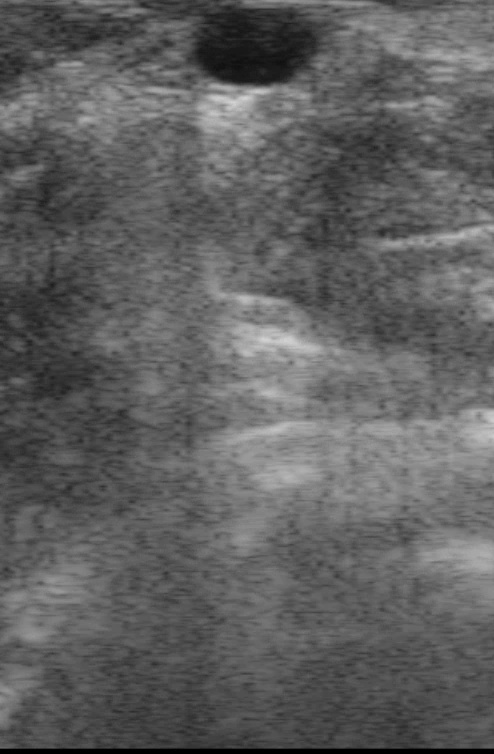veins_detect: (183, 3, 330, 94)
veins_seg: (197, 4, 314, 85)
